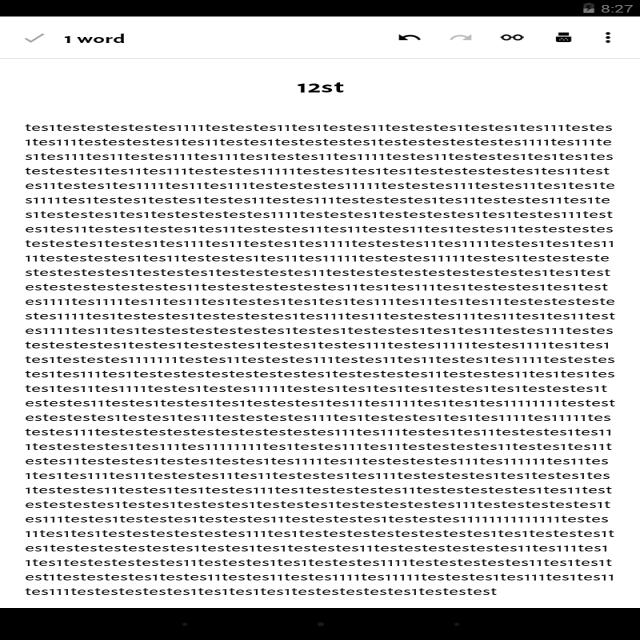ImageButton: (392, 28, 427, 44), (548, 29, 579, 46), (592, 26, 618, 46), (494, 28, 526, 44), (19, 29, 48, 45), (442, 30, 478, 42)
TextView: (21, 120, 616, 600), (292, 76, 356, 95), (60, 30, 127, 46)
